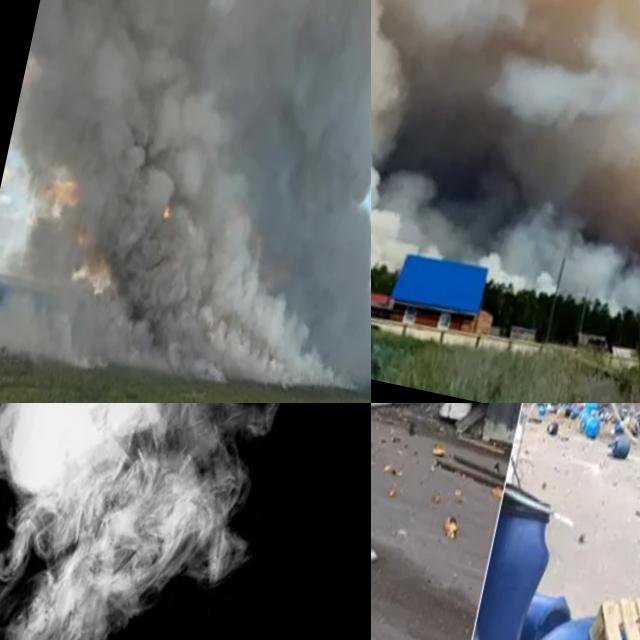smoke: (0, 0, 371, 403), (371, 0, 640, 389), (0, 403, 294, 640)
